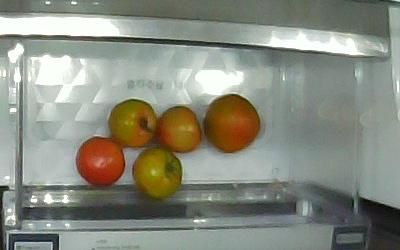tomato: (203, 94, 261, 153), (132, 147, 183, 199), (76, 137, 125, 186), (155, 106, 201, 154), (109, 99, 155, 147)
